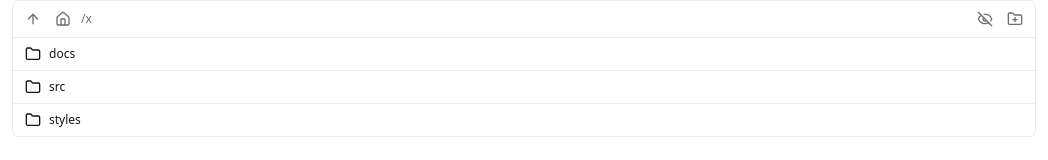
it: WorkspacePicker listing filter › shows a no-matches message when nothing matches the fragment
Replace the text in the field with test id "workspace-picker-path-input" with "zzz": (524, 19) [81,11,967,27]
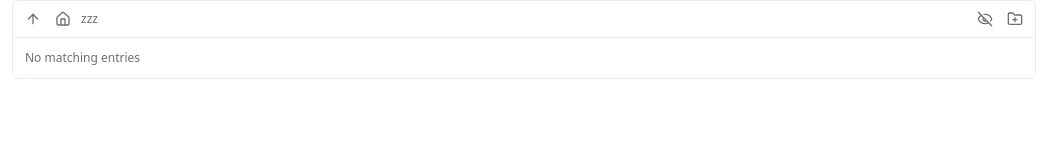
Check: the text "No matching entries" is shown, box [25,49,140,66]
Check: the button with test id "workspace-picker-entry-src" is gone
